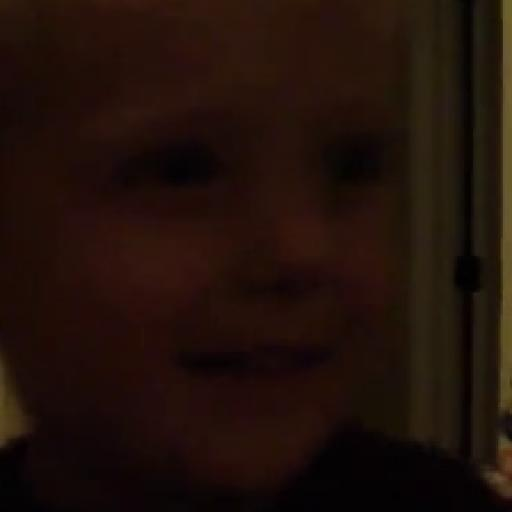Autism: (22, 10, 492, 491)
